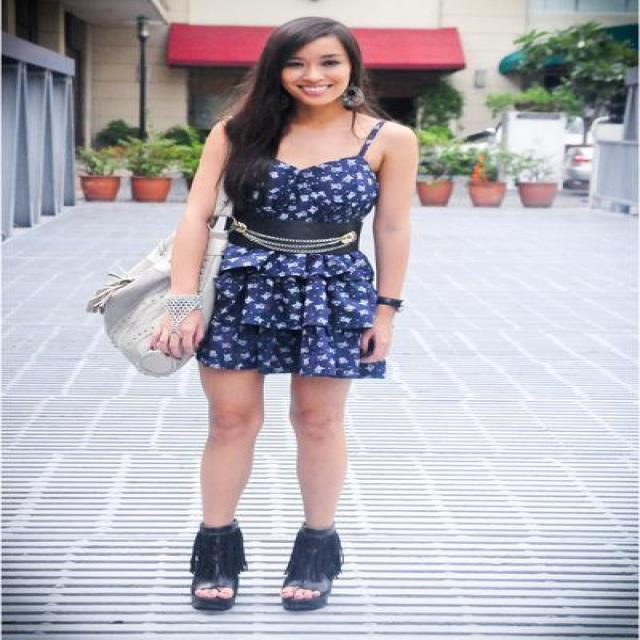dress: (195, 152, 402, 383)
shoe: (189, 525, 419, 614)
